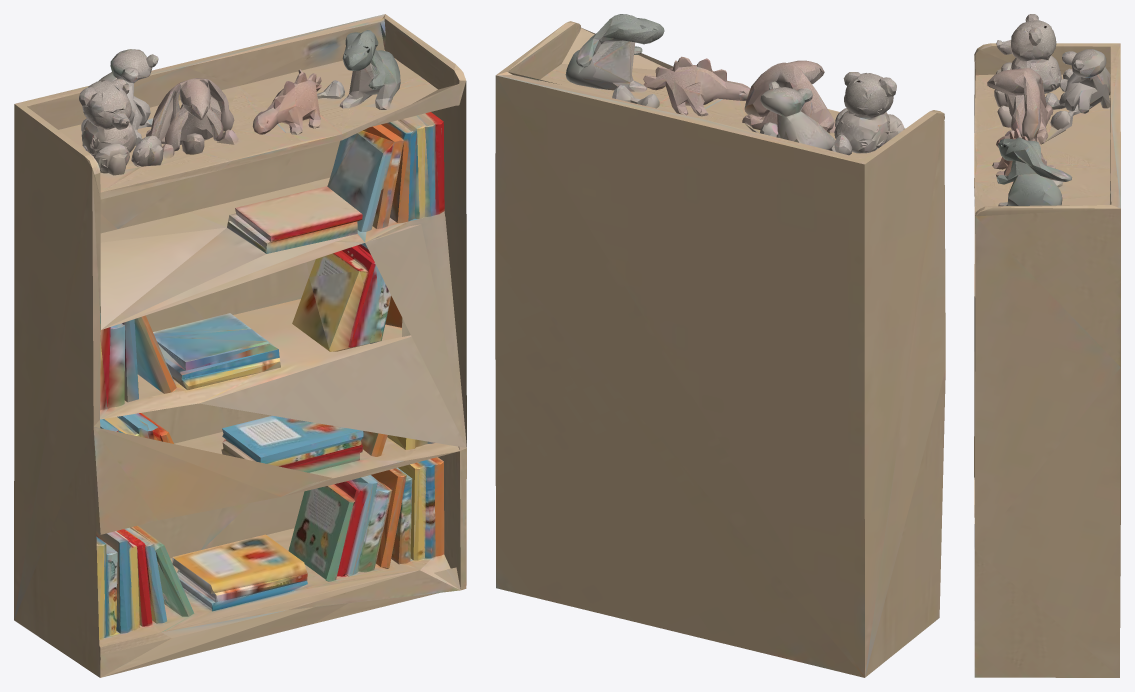
File: kids_bookshelf.glb
The picture shows the model from 3 angles, left to right: view 1: azimuth 30°, elevation 25°; view 2: azimuth 150°, elevation 25°; view 3: azimuth 270°, elevation 25°; orthographic projection. The views are drawn at different scales.
Visible parts, largest first — view 1: 0; view 2: 0; view 3: 0.
Boxes of the visible parts, x1,y1,x2,y2 form: 0: (14,14,466,677); 0: (495,14,945,677); 0: (974,14,1120,677).
Size of the model in its own units: 0.8 by 1.15 by 0.3.
Materials: 1 (1 with a texture image).
